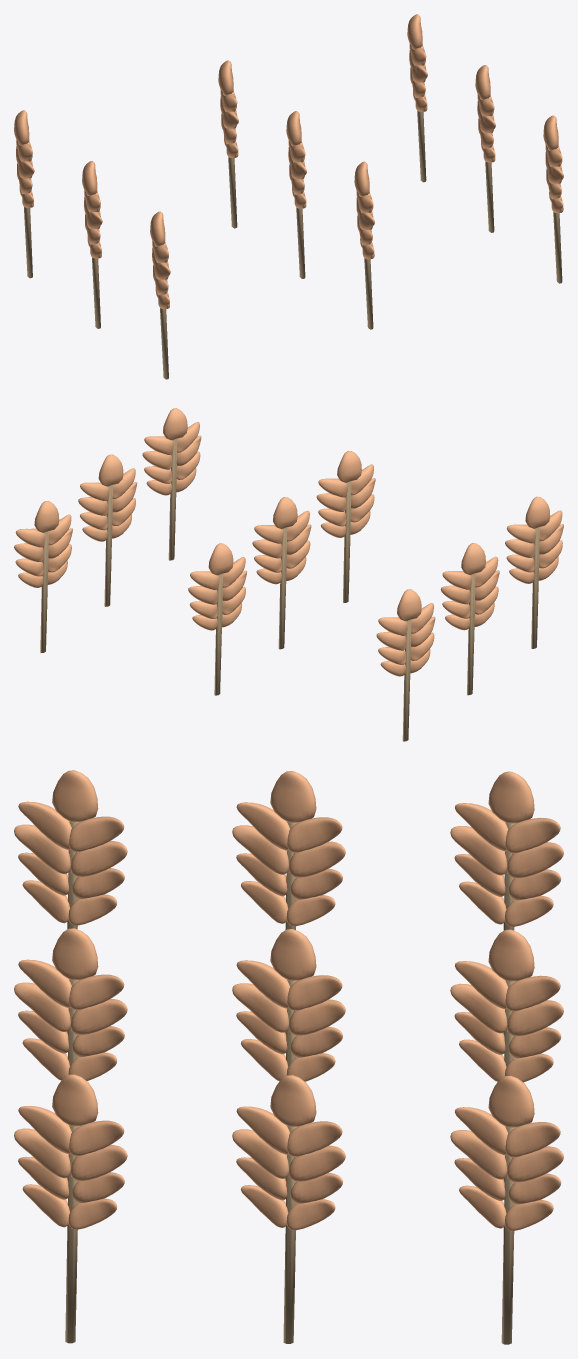
The model's file is Wheat1.fbx.
3 views of the same model, one above another, from view 1: azimuth 30°, elevation 25°; view 2: azimuth 150°, elevation 25°; view 3: azimuth 270°, elevation 25° (orthographic). The views are drawn at different scales.
Visible parts, largest first — view 1: Cube.006, Cube.005, Cube.002; view 2: Cube.006, Cube.002, Cube.005; view 3: Cube.006, Cube.002, Cube.005.
Boxes of the visible parts, x1,y1,x2,y2 form: Cube.006: (407, 14, 563, 283); Cube.005: (218, 60, 374, 329); Cube.002: (14, 110, 170, 379); Cube.006: (14, 408, 201, 652); Cube.002: (376, 496, 563, 741); Cube.005: (188, 451, 375, 695); Cube.006: (14, 1074, 563, 1344); Cube.002: (14, 770, 563, 1036); Cube.005: (14, 928, 563, 1182).
Bounding box in the file's own units: 58.3 × 21.69 × 41.08.
